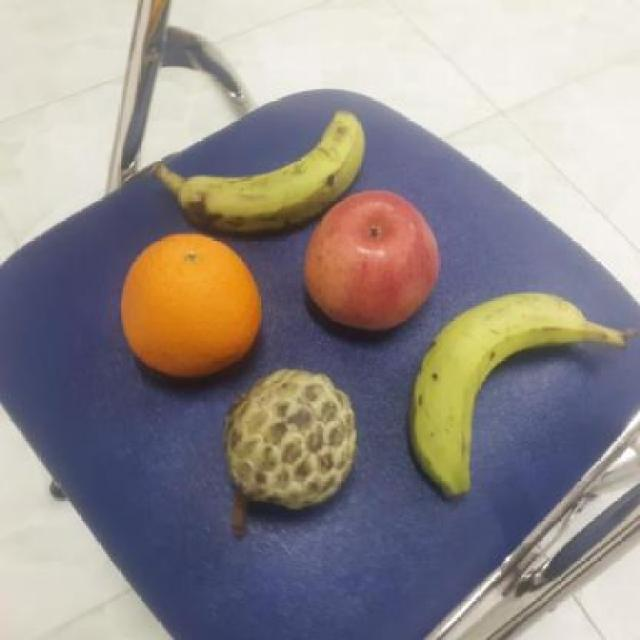apple: (299, 191, 442, 334)
banana: (407, 285, 598, 501), (173, 97, 365, 234)
oren: (115, 228, 263, 380)
sugar apple: (219, 360, 359, 514)
